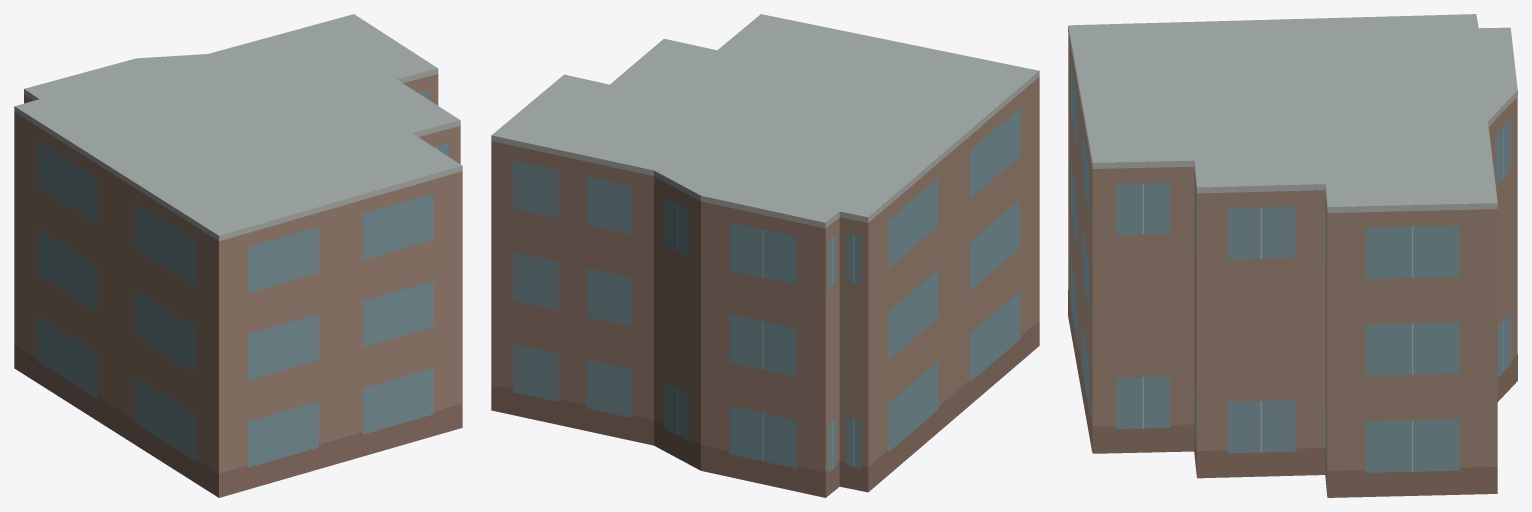
The model's file is survey-upis-32949633.glb.
The picture shows the model from 3 angles, left to right: view 1: azimuth 30°, elevation 25°; view 2: azimuth 150°, elevation 25°; view 3: azimuth 270°, elevation 25°; orthographic projection. The views are drawn at different scales.
Parts seen in each view (by area): view 1: survey-upis-32949633.tmp; view 2: survey-upis-32949633.tmp; view 3: survey-upis-32949633.tmp.
Boxes of the visible parts, bbox=[...] form: survey-upis-32949633.tmp: bbox=[14, 14, 462, 497]; survey-upis-32949633.tmp: bbox=[491, 14, 1039, 497]; survey-upis-32949633.tmp: bbox=[1068, 14, 1517, 497].
Bounding box in the file's own units: 16.82 × 11.8 × 16.55.
